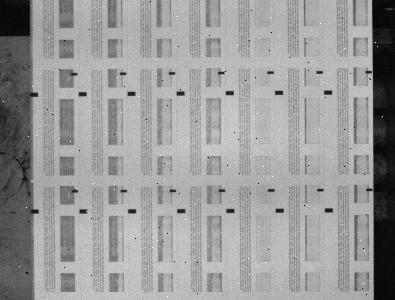backgroundclutter: (25, 271, 29, 274), (30, 180, 34, 183)
qblock: (127, 91, 136, 96), (324, 90, 333, 95), (226, 208, 235, 213), (30, 92, 38, 97), (31, 209, 39, 214), (275, 90, 283, 95), (176, 91, 185, 95), (177, 209, 186, 213), (79, 92, 87, 96), (226, 91, 234, 95), (79, 209, 87, 213), (128, 209, 136, 213), (276, 208, 284, 212), (325, 208, 333, 212)
smallqblock: (218, 71, 225, 75), (169, 71, 176, 75), (71, 189, 78, 193), (71, 72, 78, 76), (366, 70, 372, 74), (268, 189, 275, 192), (317, 188, 324, 191), (267, 71, 274, 74), (120, 189, 127, 192), (219, 189, 226, 192), (316, 71, 323, 74), (366, 188, 373, 191), (170, 189, 176, 192), (120, 72, 126, 75)
